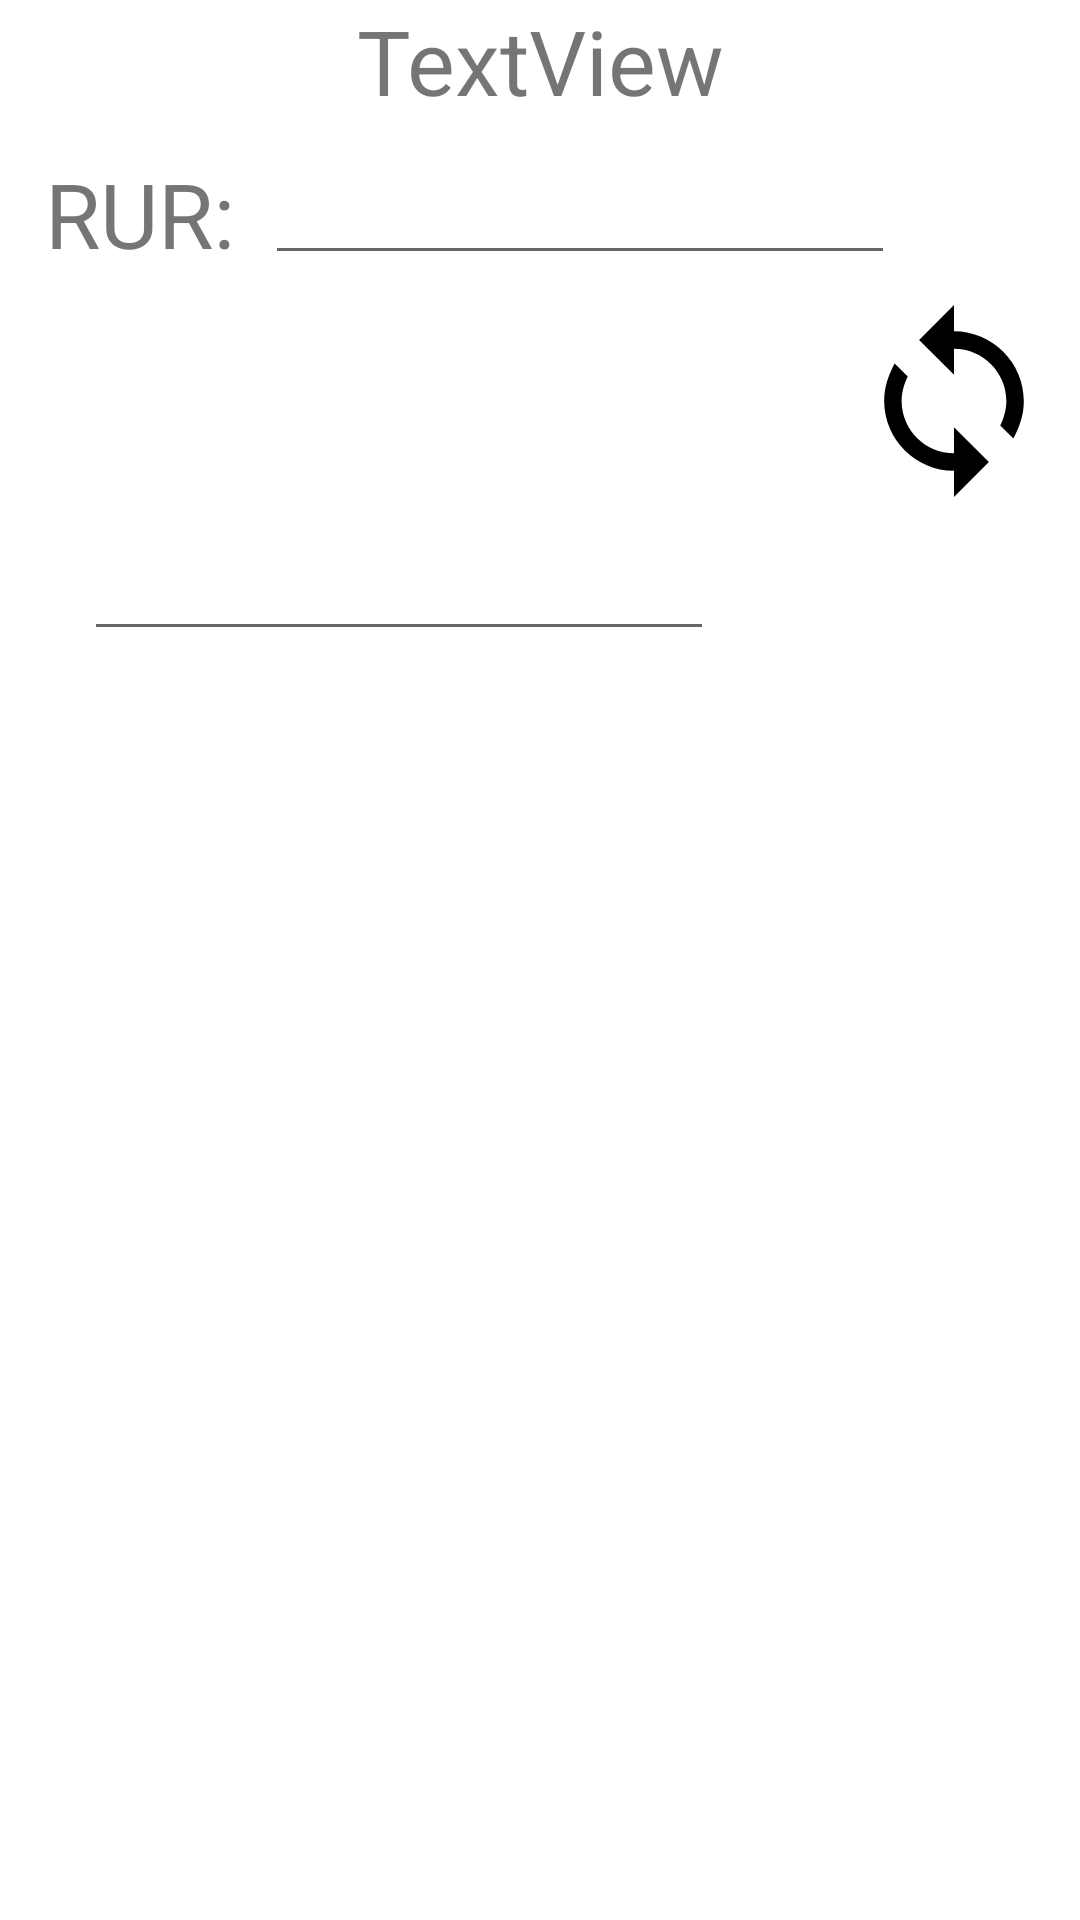

Icon bounding boxes for this 1080w x 1920h phone screenshot, format {"left": x1, "top": y1, "right": x2, "bottom": y2}:
convert: {"left": 884, "top": 305, "right": 1024, "bottom": 497}
